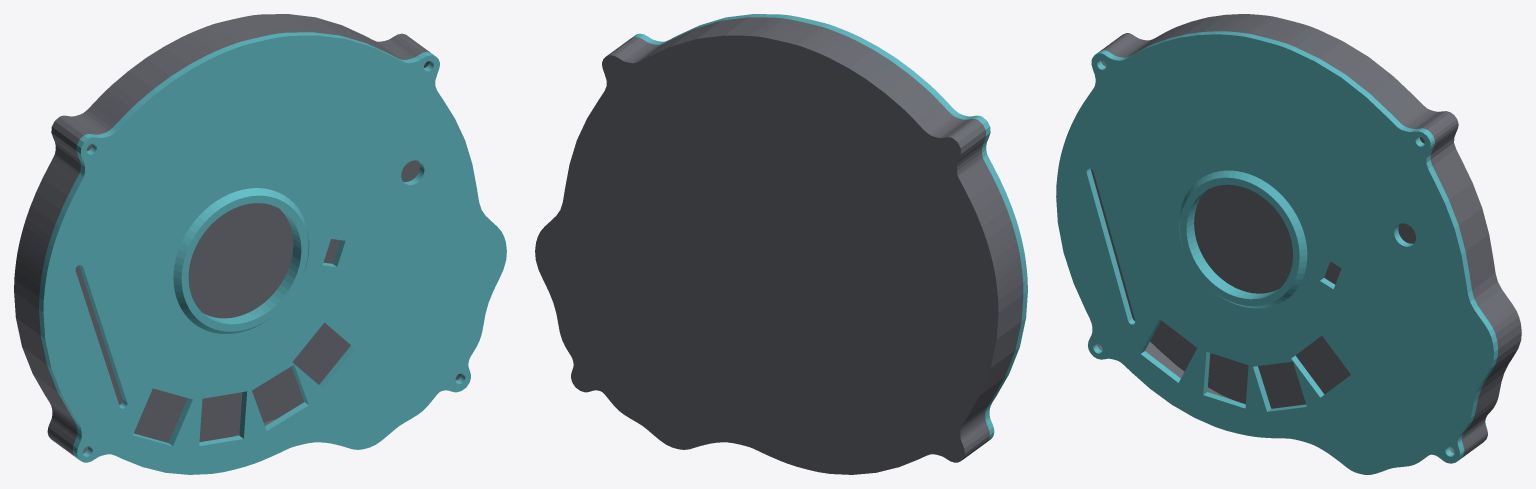
Rendered from Tone_Dial_Enclosure.glb.
3 views of the same model, side by side, from view 1: azimuth 30°, elevation 25°; view 2: azimuth 150°, elevation 25°; view 3: azimuth 330°, elevation 25° (orthographic). The views are drawn at different scales.
Visible parts, largest first — view 1: geometry_1, Base_Tray.stl; view 2: Base_Tray.stl, geometry_1; view 3: geometry_1, Base_Tray.stl.
Part boxes in pixels (x1,y1,x2,y2): geometry_1: (39,32,506,474); Base_Tray.stl: (14,14,460,456); Base_Tray.stl: (535,17,1023,474); geometry_1: (632,14,1027,441); geometry_1: (1056,31,1498,474); Base_Tray.stl: (1090,14,1521,458).
Size of the model in its own units: 150 by 134 by 18.5.
